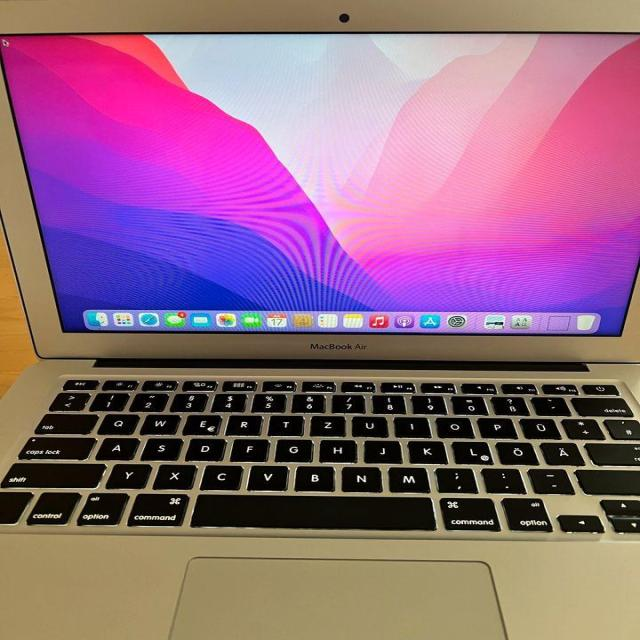0: (448, 393, 487, 413)
1: (87, 390, 127, 409)
2: (127, 390, 166, 410)
3: (167, 391, 206, 410)
4: (209, 391, 244, 410)
5: (248, 391, 284, 411)
6: (289, 391, 323, 411)
7: (329, 392, 363, 411)
8: (369, 392, 404, 412)
9: (408, 393, 445, 413)
a: (92, 435, 137, 459)
accent: (529, 394, 569, 413)
ae: (538, 439, 583, 463)
alt-left: (73, 490, 127, 526)
altgr-right: (498, 494, 551, 530)
b: (291, 463, 333, 489)
c: (196, 461, 240, 489)
comma: (431, 465, 475, 491)
d: (182, 436, 223, 460)
del: (569, 395, 630, 414)
e: (180, 412, 220, 434)
enter: (583, 440, 637, 463)
f: (228, 436, 266, 460)
g: (271, 436, 310, 460)
h: (316, 437, 355, 461)
hash: (602, 417, 638, 437)
i: (391, 414, 430, 436)
j: (360, 437, 399, 461)
k: (405, 438, 446, 461)
keyboard: (2, 369, 638, 541)
l: (449, 439, 491, 463)
less: (45, 390, 88, 410)
m: (384, 463, 428, 491)
minus: (525, 466, 572, 492)
n: (338, 463, 380, 490)
o: (432, 415, 472, 436)
oe: (493, 439, 537, 463)
p: (475, 415, 515, 436)
plus: (559, 415, 603, 437)
point: (478, 465, 524, 491)
q: (93, 411, 138, 433)
r: (222, 412, 261, 433)
s: (138, 435, 180, 459)
shift-left: (0, 459, 105, 487)
shift-lock: (15, 434, 93, 459)
shift-right: (575, 466, 638, 493)
space: (188, 492, 433, 527)
ss: (489, 394, 528, 414)
strg-left: (22, 489, 80, 525)
t: (265, 412, 300, 433)
tab: (31, 411, 96, 433)
u: (348, 414, 386, 436)
ue: (517, 415, 560, 437)
v: (244, 462, 286, 489)
w: (137, 411, 178, 433)
x: (149, 461, 195, 487)
y: (103, 461, 149, 487)
z: (307, 413, 344, 435)
